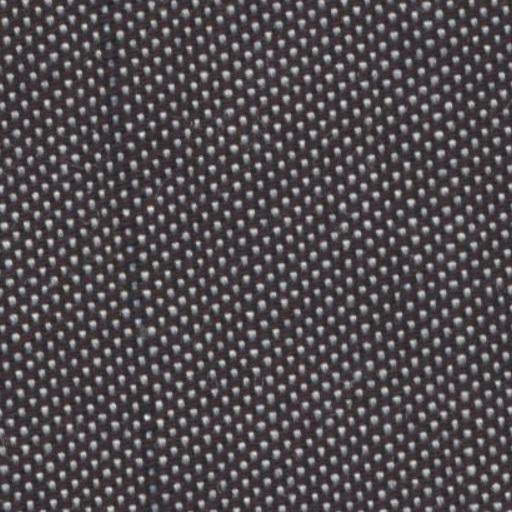TuoSha: (82, 12, 168, 504)
